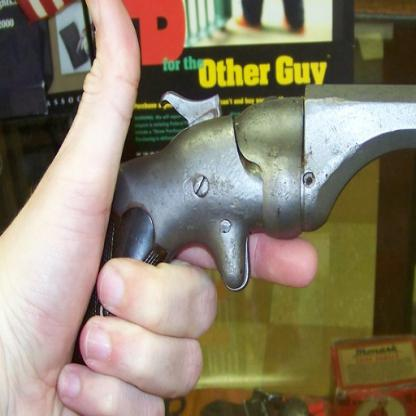gun: (70, 78, 415, 366)
